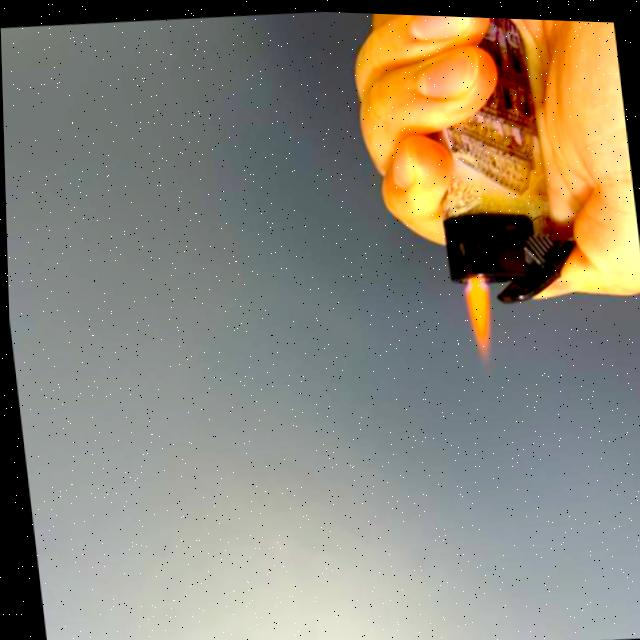Fire: (458, 274, 498, 357)
